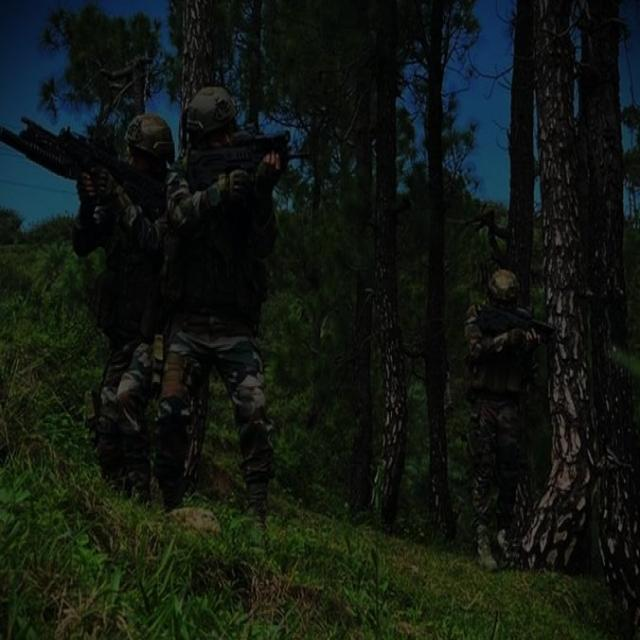Forest: (0, 0, 640, 640)
Militant: (40, 64, 188, 490), (172, 66, 290, 508), (458, 252, 550, 557)
